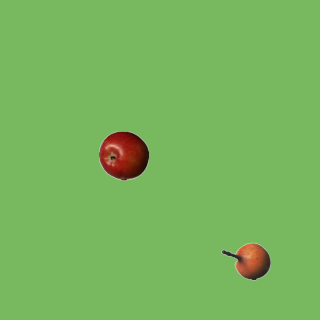Apple Braeburn: (98, 130, 148, 180)
Granadilla: (220, 236, 270, 286)
